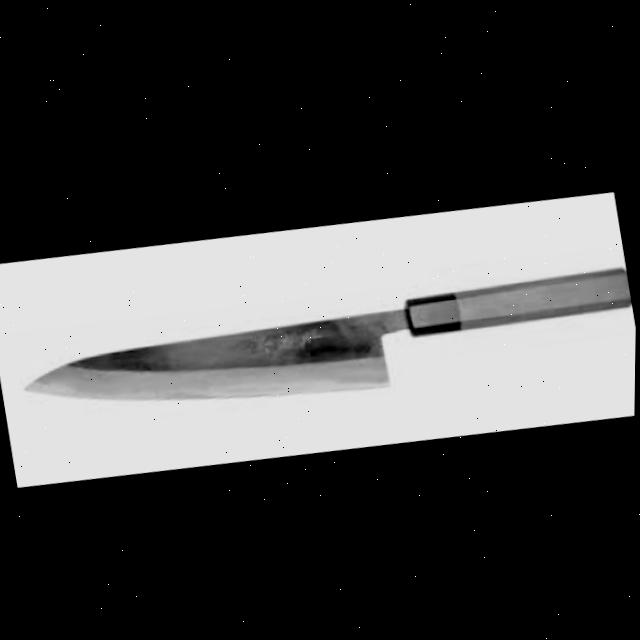knife: (15, 227, 637, 453)
